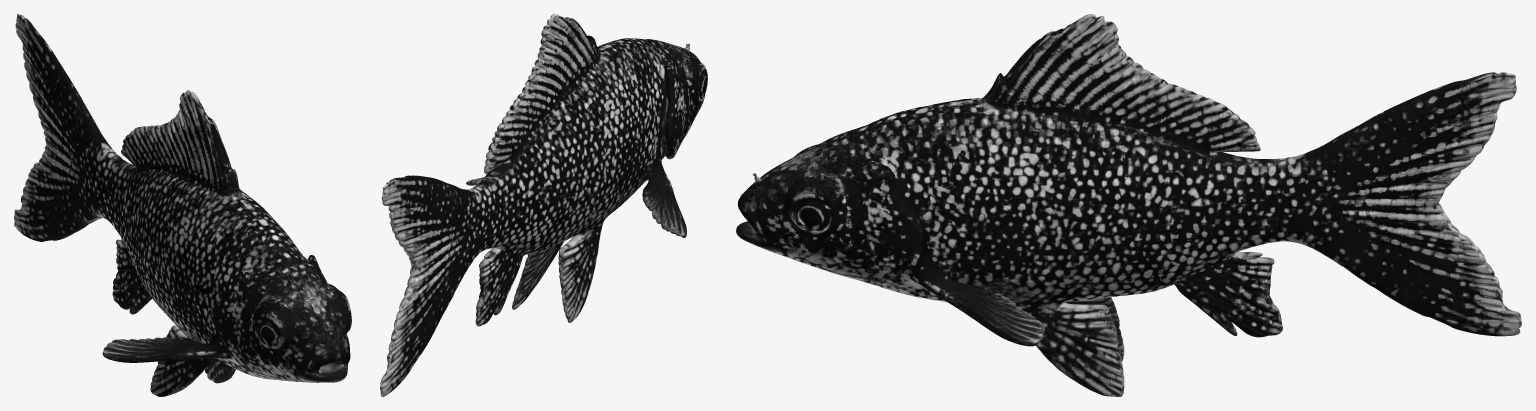
File: fisher-fish.glb
The picture shows the model from 3 angles, left to right: view 1: azimuth 30°, elevation 25°; view 2: azimuth 150°, elevation 25°; view 3: azimuth 270°, elevation 25°; orthographic projection. The views are drawn at different scales.
Visible parts, largest first — view 1: tripo_node_ef272b51-5f56-4555-8551-c74cf94d66e4; view 2: tripo_node_ef272b51-5f56-4555-8551-c74cf94d66e4; view 3: tripo_node_ef272b51-5f56-4555-8551-c74cf94d66e4.
Boxes of the visible parts, x1,y1,x2,y2 form: tripo_node_ef272b51-5f56-4555-8551-c74cf94d66e4: [14, 14, 351, 396]; tripo_node_ef272b51-5f56-4555-8551-c74cf94d66e4: [380, 14, 707, 396]; tripo_node_ef272b51-5f56-4555-8551-c74cf94d66e4: [736, 14, 1521, 396].
Bounding box in the file's own units: 0.3911 × 0.5026 × 0.9793.
1 material, 1 textured.
